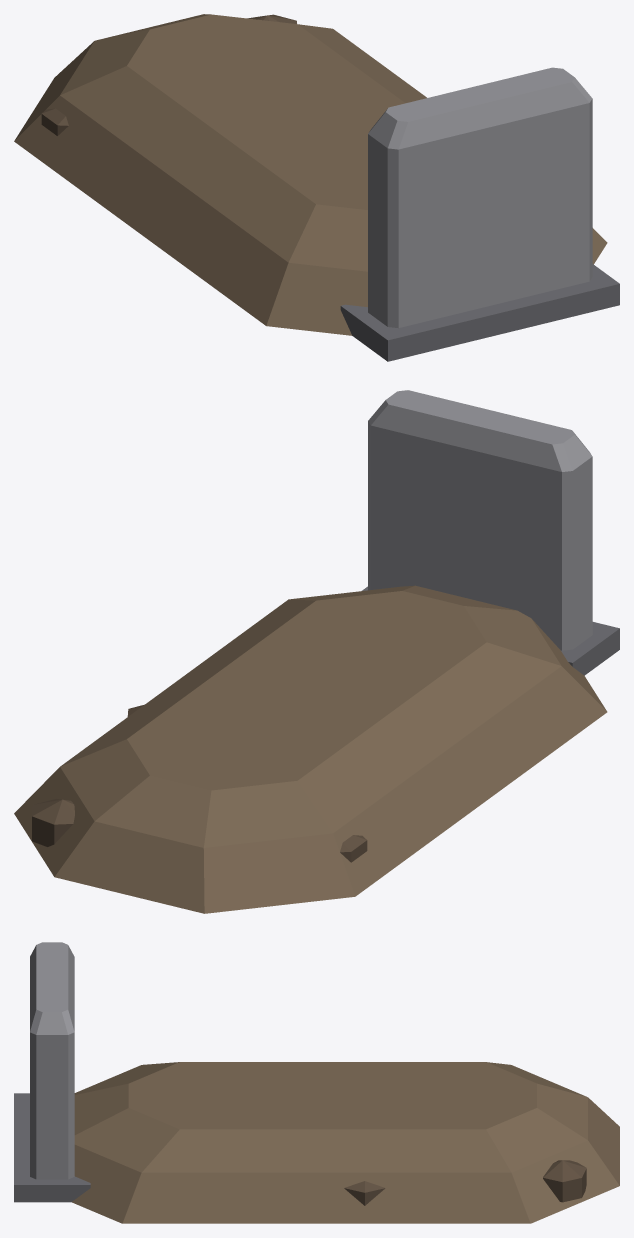
Rendered from grave_b8_full.obj.
3 views of the same model, one above another, from view 1: azimuth 30°, elevation 25°; view 2: azimuth 150°, elevation 25°; view 3: azimuth 270°, elevation 25° (orthographic). The views are drawn at different scales.
Visible parts, largest first — view 1: grave_b8_full_1, grave_b8_full_7, grave_b8_full_0, grave_b8_full_8, grave_b8_full_6, grave_b8_full_2; view 2: grave_b8_full_1, grave_b8_full_0, grave_b8_full_7, grave_b8_full_8, grave_b8_full_6, grave_b8_full_5; view 3: grave_b8_full_1, grave_b8_full_0, grave_b8_full_7, grave_b8_full_8, grave_b8_full_6, grave_b8_full_5, grave_b8_full_3.
Boxes of the visible parts, x1,y1,x2,y2 form: grave_b8_full_1: (60,14,426,271); grave_b8_full_7: (368,99,592,328); grave_b8_full_0: (14,41,607,335); grave_b8_full_8: (368,67,592,149); grave_b8_full_6: (340,264,619,361); grave_b8_full_2: (41,108,68,135); grave_b8_full_1: (60,585,561,847); grave_b8_full_0: (14,618,607,913); grave_b8_full_7: (368,421,592,650); grave_b8_full_8: (368,390,592,471); grave_b8_full_6: (362,586,619,675); grave_b8_full_5: (32,799,74,846); grave_b8_full_1: (74,1062,587,1172); grave_b8_full_0: (72,1097,619,1223); grave_b8_full_7: (30,1032,74,1179); grave_b8_full_8: (30,942,74,1034); grave_b8_full_6: (14,1093,90,1202); grave_b8_full_5: (543,1160,586,1202); grave_b8_full_3: (344,1181,385,1205).
Bounding box in the file's own units: 1 × 0.62 × 1.9.
